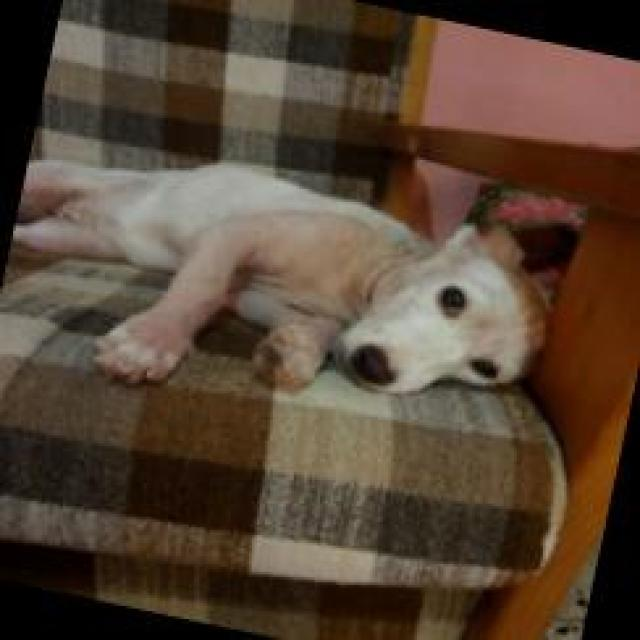fungal infection: (99, 212, 376, 383), (19, 156, 167, 254)
